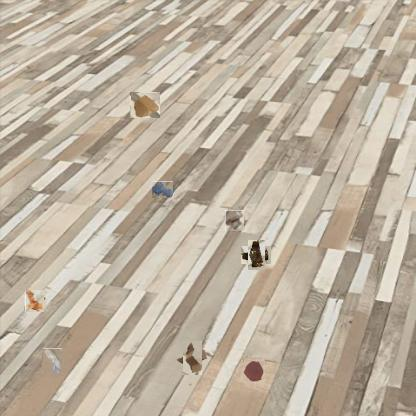dirty: (178, 344, 206, 372), (130, 92, 160, 118), (244, 243, 268, 267), (42, 348, 62, 373), (25, 291, 45, 312), (225, 210, 244, 231)
liquid: (243, 359, 265, 382), (152, 181, 174, 198)
